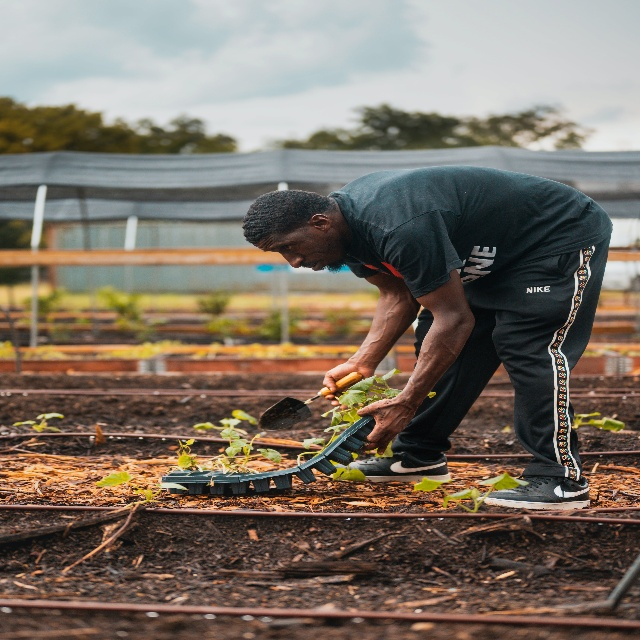Sin_guantes: (357, 399, 413, 460), (320, 360, 372, 410)
